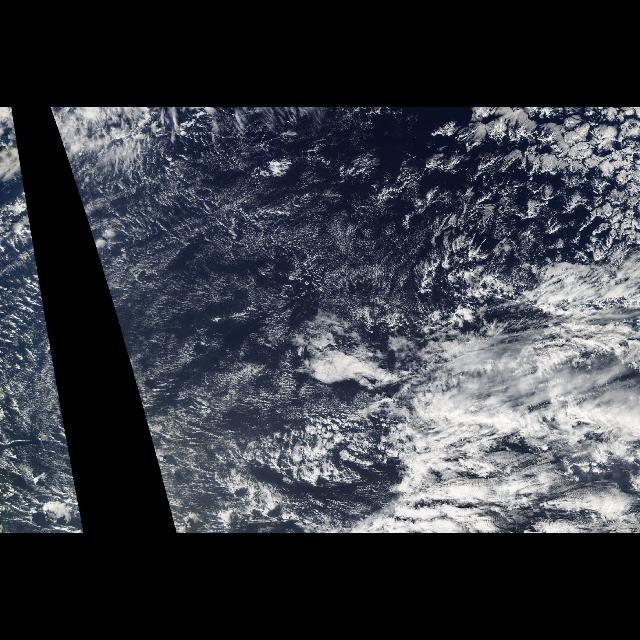Sugar: (70, 150, 530, 532), (4, 174, 84, 532)
